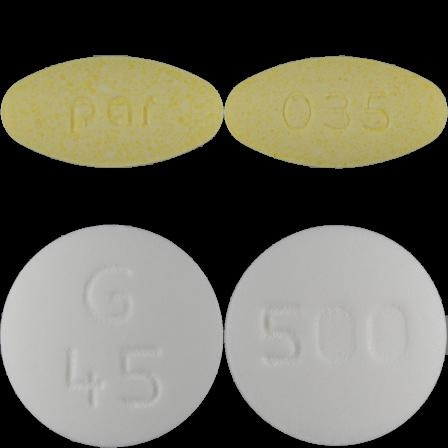53808-0380: (0, 0, 224, 224)
